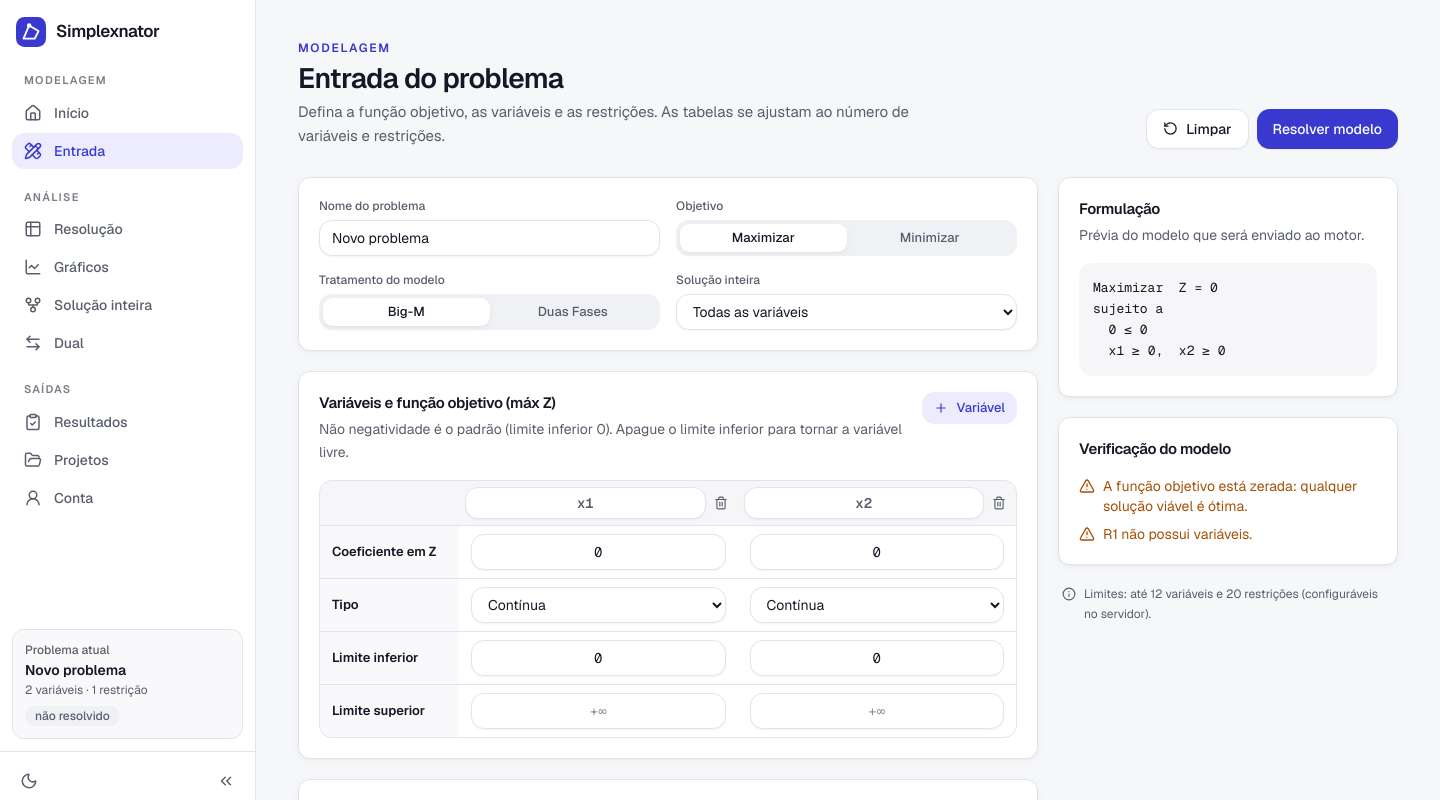
Test: Entrada: validação e edição › adiciona e remove variáveis e restrições; as tabelas se atualizam
Click the button "Variável" at (970, 408), box [922, 392, 1017, 424]
(page scrolled)
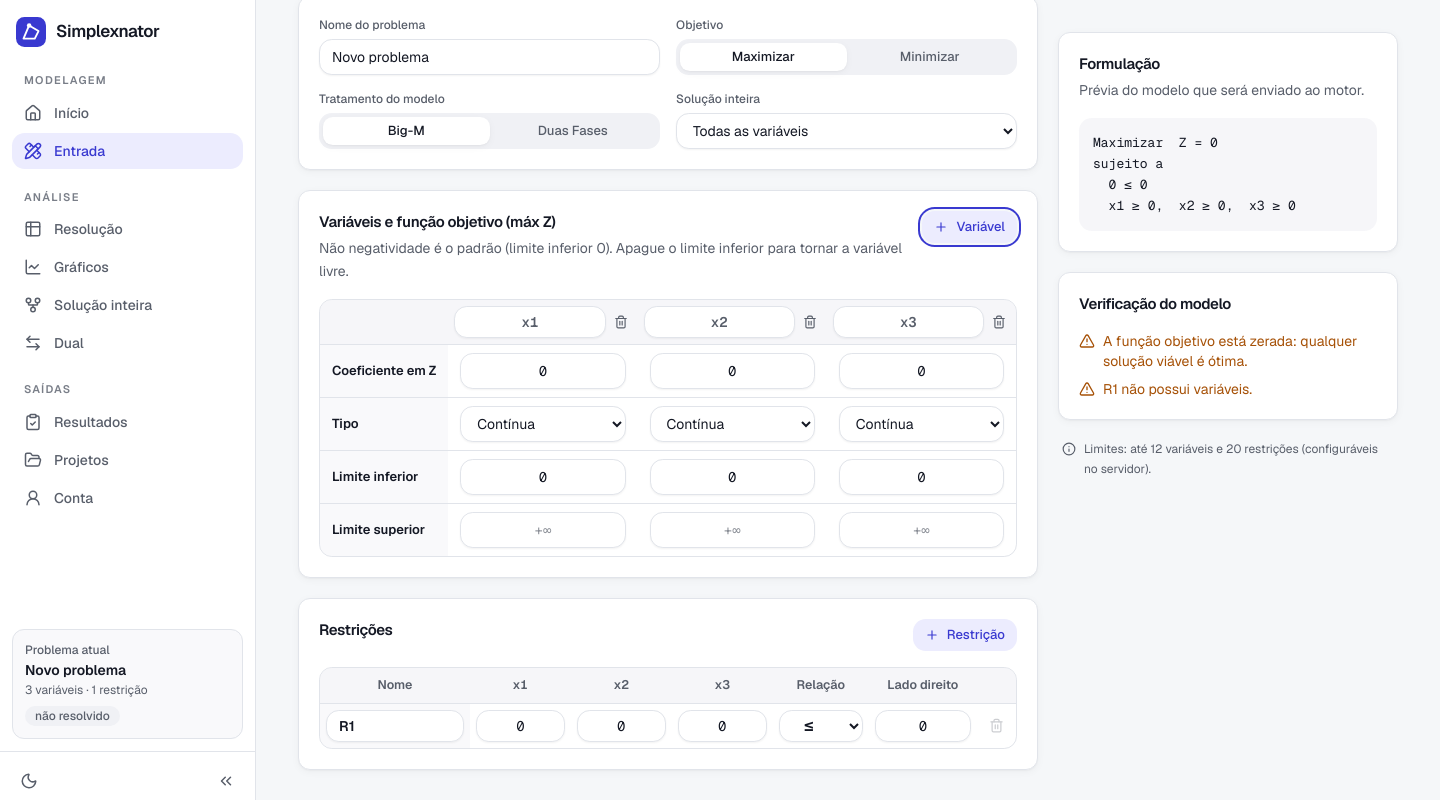
expect the number of fields named "Nome da variável" is 3: met, box [454, 306, 606, 338]; [644, 306, 795, 338]; [833, 306, 984, 338]
Click the button "Restrição" at (965, 635), box [913, 619, 1017, 651]
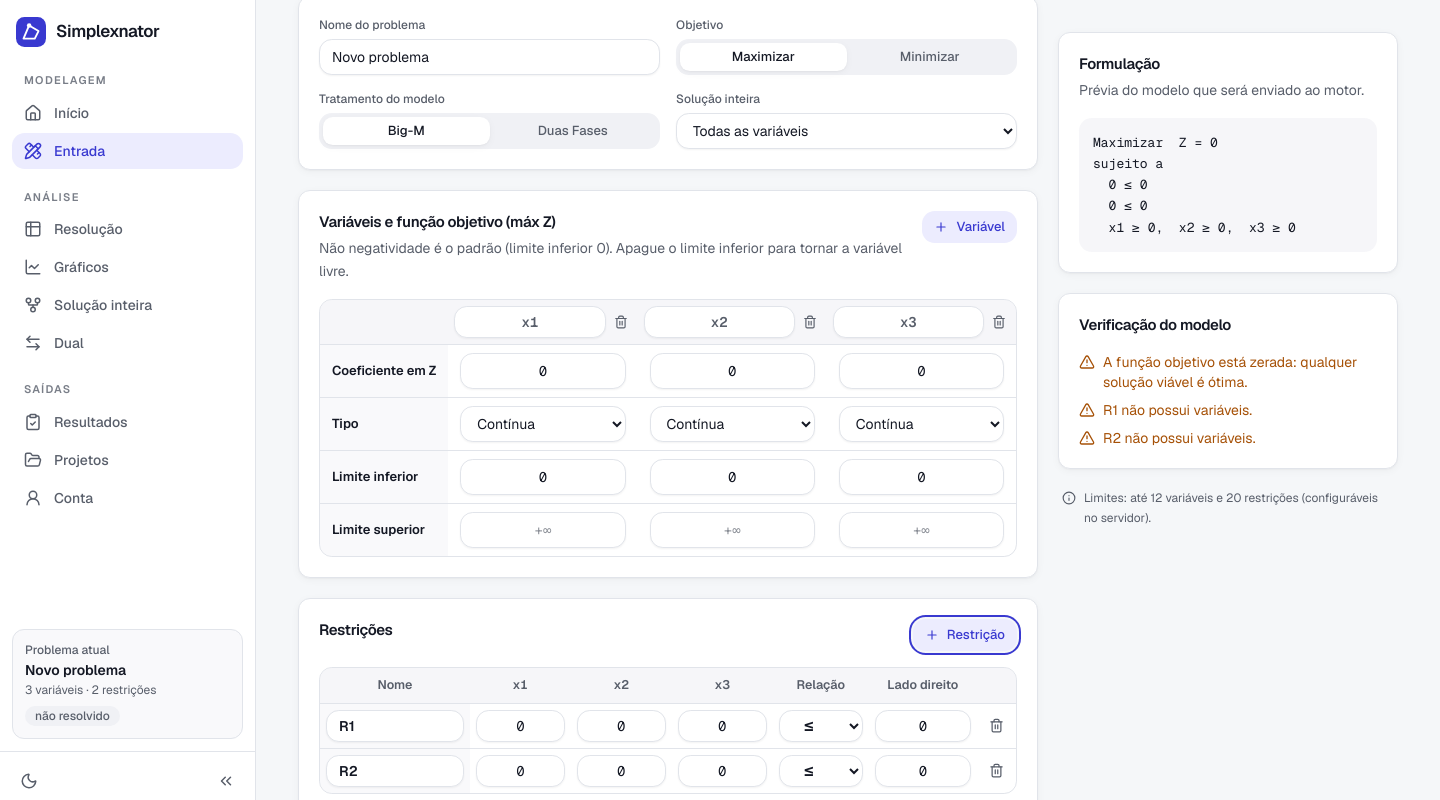
expect the number of fields named "Nome da restrição" is 2: met, box [326, 710, 464, 742]; [326, 754, 464, 786]
Click the button named "Remover variável x3" at (999, 322), box [988, 311, 1010, 333]
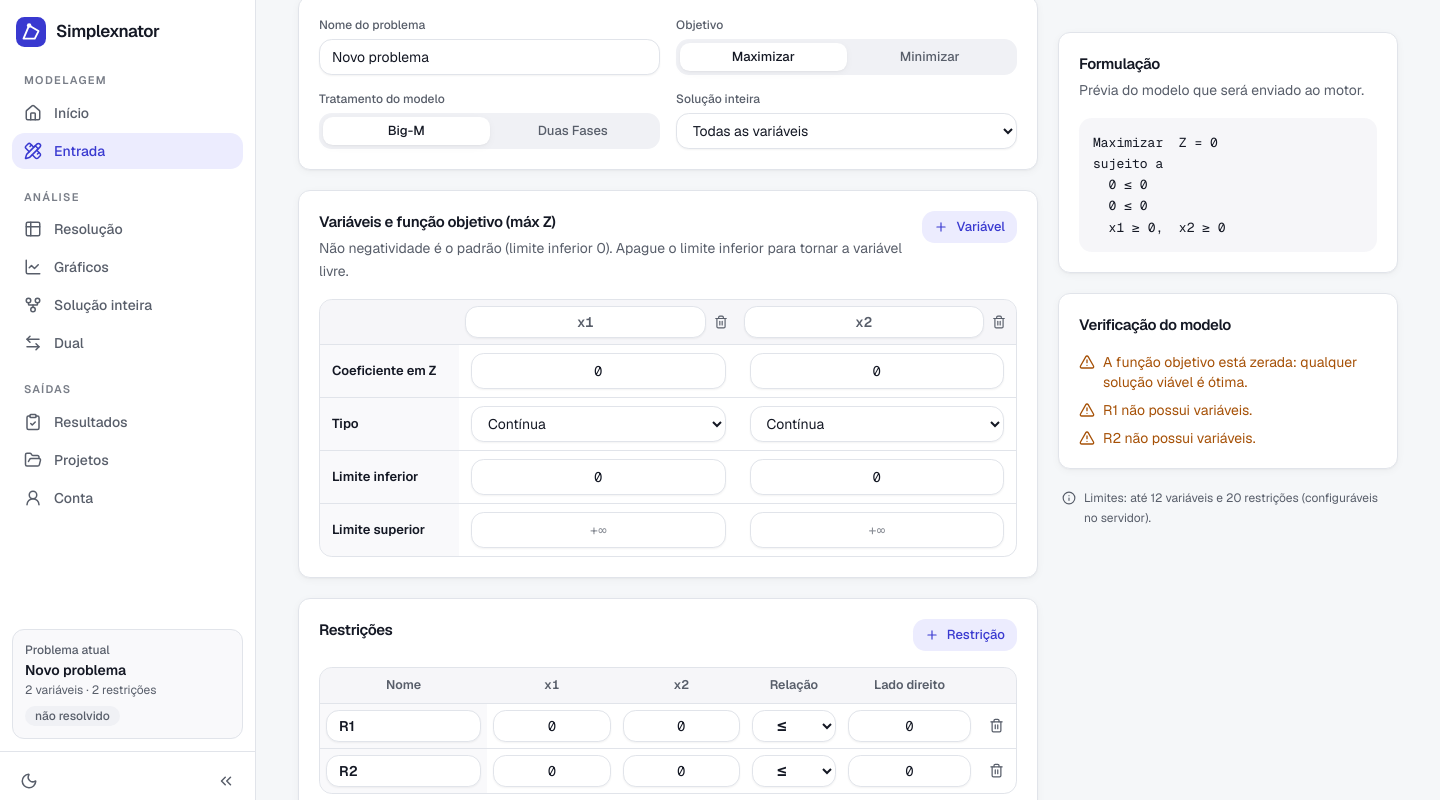
expect the number of fields named "Nome da variável" is 2: met, box [465, 306, 706, 338]; [744, 306, 984, 338]
Click the button named "Remover R2" at (996, 770), box [983, 757, 1010, 784]
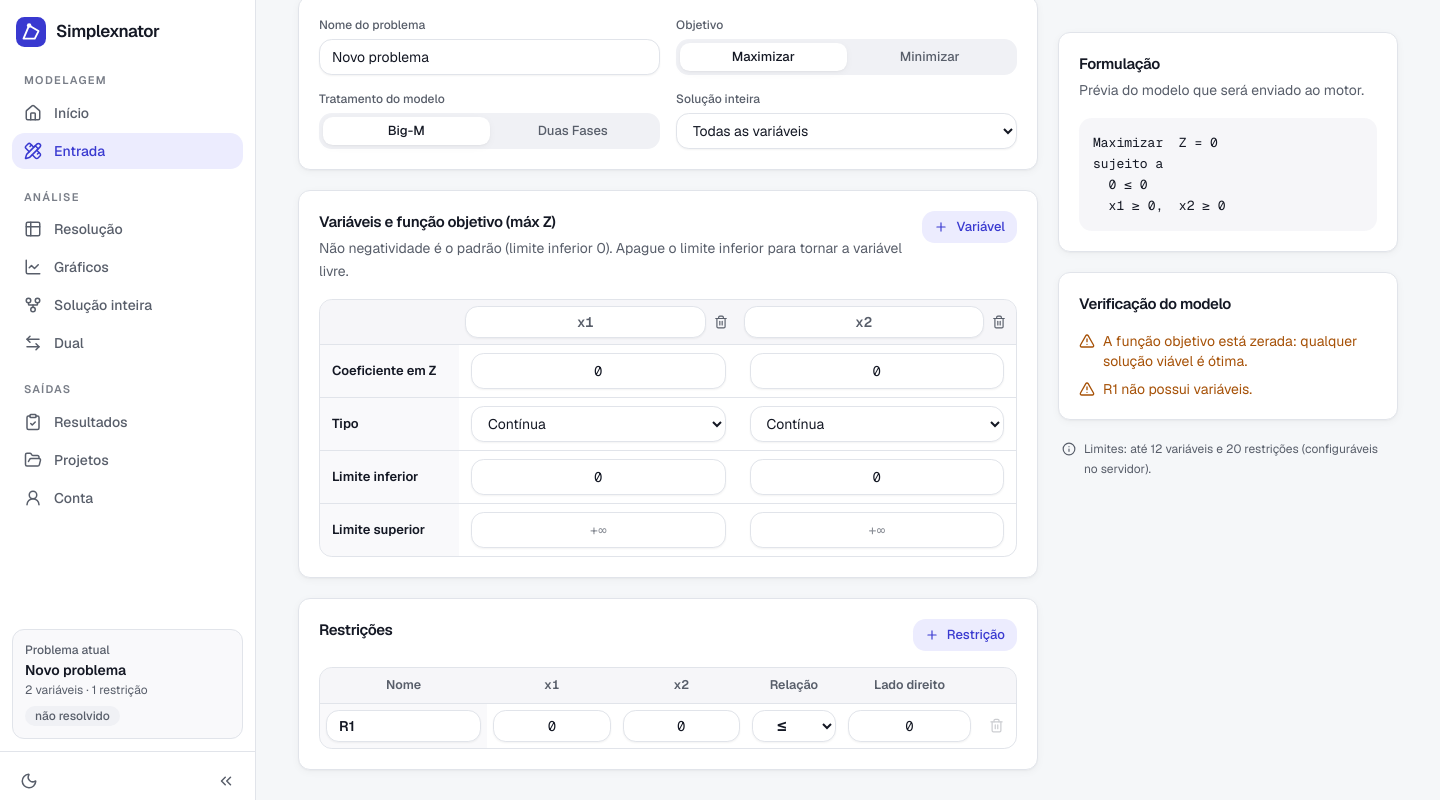
expect the number of fields named "Nome da restrição" is 1: met, box [326, 710, 481, 742]
